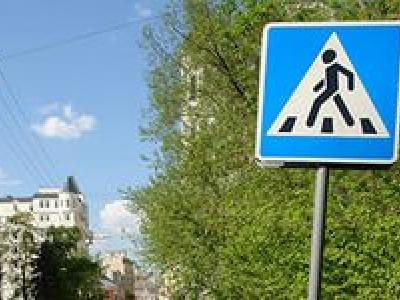crosswalk: (264, 26, 391, 150)
